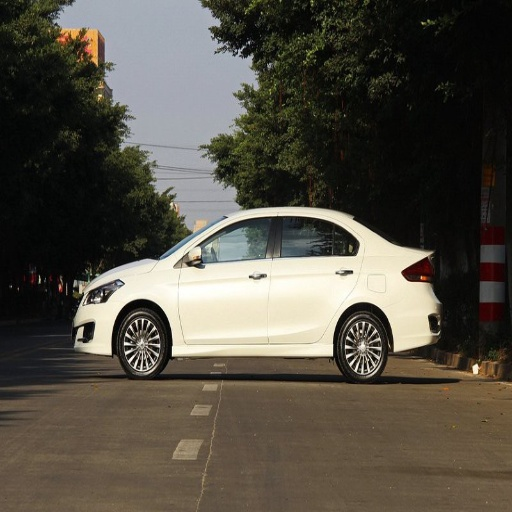back_left_door: (268, 215, 360, 343)
front_left_door: (179, 216, 277, 344)
